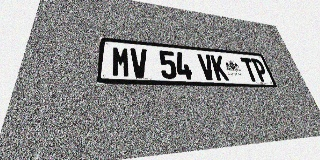4: (174, 52, 193, 80)
5: (159, 50, 178, 79)
K: (210, 55, 229, 81)
M: (111, 46, 130, 78)
P: (250, 58, 270, 82)
T: (240, 57, 259, 82)
V: (130, 48, 149, 78), (197, 54, 216, 80)
